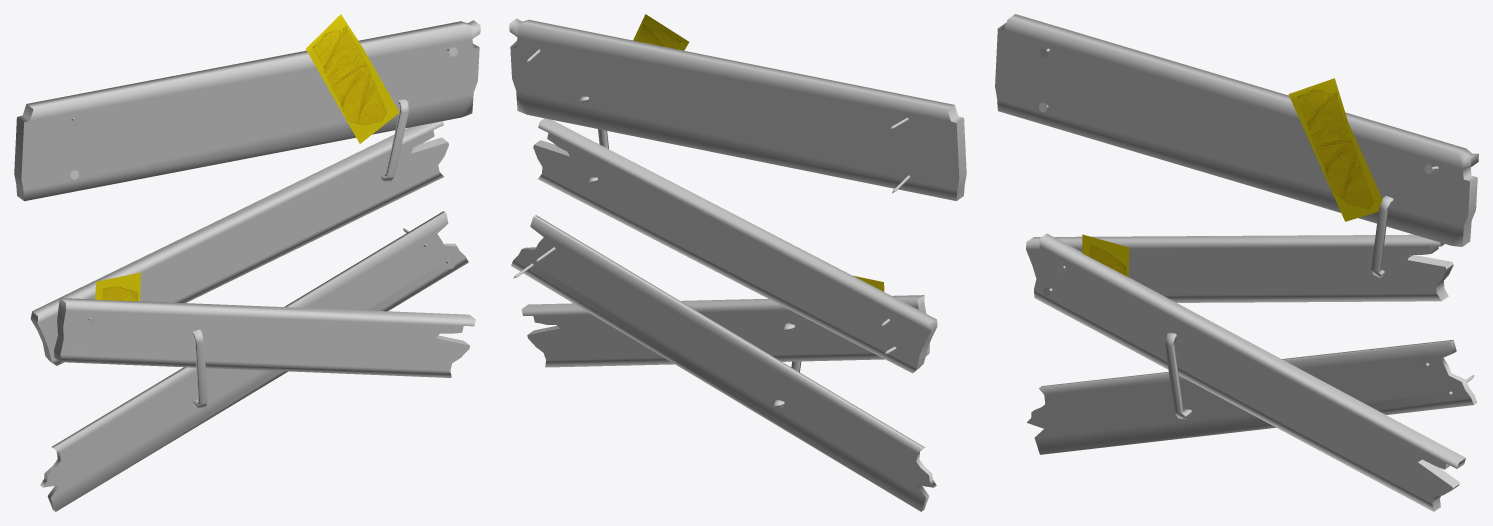
Rendered from sm40_034_windowbarricade01a.fbx.
3 views of the same model, side by side, from view 1: azimuth 30°, elevation 25°; view 2: azimuth 150°, elevation 25°; view 3: azimuth 330°, elevation 25° (orthographic). The views are drawn at different scales.
Visible parts, largest first — view 1: LOD_1_Group_0_Sub_1__sm40_034_WindowBarricade01A_A_Mat, LOD_1_Group_3_Sub_1__sm40_034_WindowBarricade01A_A_Mat, LOD_1_Group_2_Sub_1__sm40_034_WindowBarricade01A_B_Mat, LOD_1_Group_1_Sub_1__sm40_034_WindowBarricade01A_B_Mat; view 2: LOD_1_Group_0_Sub_1__sm40_034_WindowBarricade01A_A_Mat, LOD_1_Group_3_Sub_1__sm40_034_WindowBarricade01A_A_Mat, LOD_1_Group_2_Sub_1__sm40_034_WindowBarricade01A_B_Mat; view 3: LOD_1_Group_0_Sub_1__sm40_034_WindowBarricade01A_A_Mat, LOD_1_Group_3_Sub_1__sm40_034_WindowBarricade01A_A_Mat, LOD_1_Group_2_Sub_1__sm40_034_WindowBarricade01A_B_Mat, LOD_1_Group_1_Sub_1__sm40_034_WindowBarricade01A_B_Mat.
Part boxes in pixels (x1,y1,x2,y2): LOD_1_Group_0_Sub_1__sm40_034_WindowBarricade01A_A_Mat: (14,20,480,409); LOD_1_Group_3_Sub_1__sm40_034_WindowBarricade01A_A_Mat: (40,211,468,511); LOD_1_Group_2_Sub_1__sm40_034_WindowBarricade01A_B_Mat: (306,14,399,143); LOD_1_Group_1_Sub_1__sm40_034_WindowBarricade01A_B_Mat: (95,272,140,301); LOD_1_Group_0_Sub_1__sm40_034_WindowBarricade01A_A_Mat: (509,18,966,407); LOD_1_Group_3_Sub_1__sm40_034_WindowBarricade01A_A_Mat: (511,215,936,511); LOD_1_Group_2_Sub_1__sm40_034_WindowBarricade01A_B_Mat: (633,14,688,50); LOD_1_Group_0_Sub_1__sm40_034_WindowBarricade01A_A_Mat: (995,14,1478,511); LOD_1_Group_3_Sub_1__sm40_034_WindowBarricade01A_A_Mat: (1027,339,1477,454); LOD_1_Group_2_Sub_1__sm40_034_WindowBarricade01A_B_Mat: (1288,78,1382,221); LOD_1_Group_1_Sub_1__sm40_034_WindowBarricade01A_B_Mat: (1082,234,1129,277).
Bounding box in the file's own units: 1.45 × 1.3 × 0.2025.
